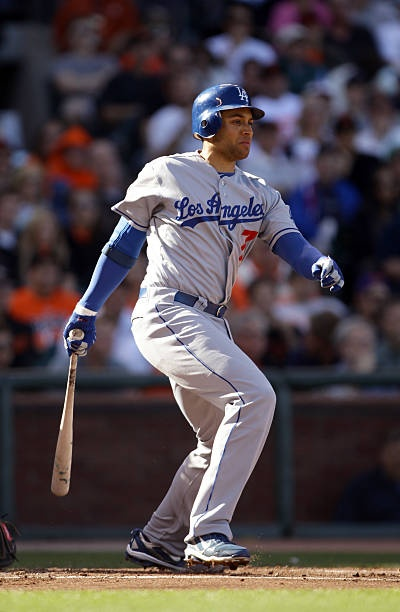bita: (48, 327, 83, 498)
